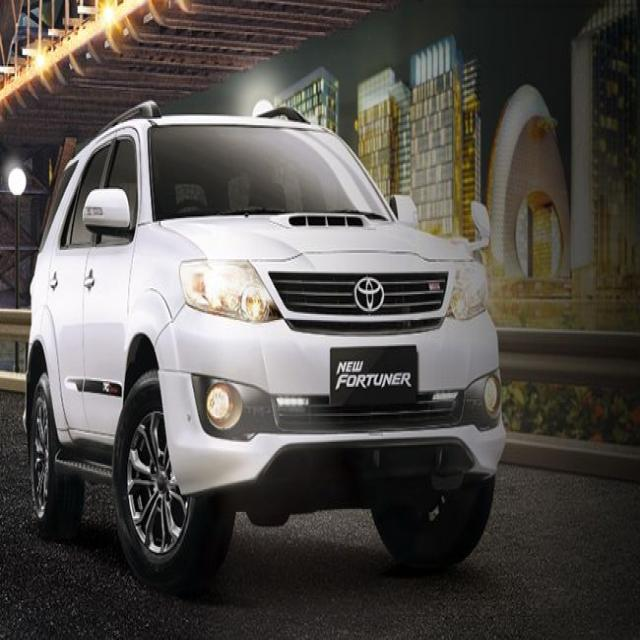light_vehicle: (21, 99, 507, 594)
